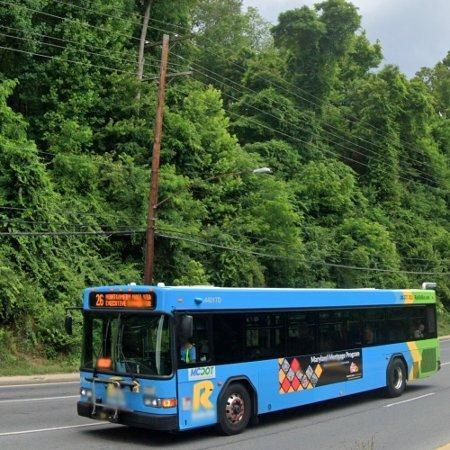buses: (78, 285, 441, 436)
